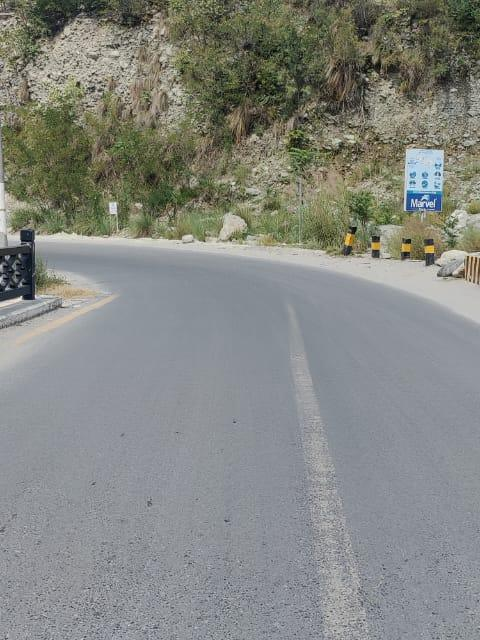left_turn: (0, 143, 373, 356)
